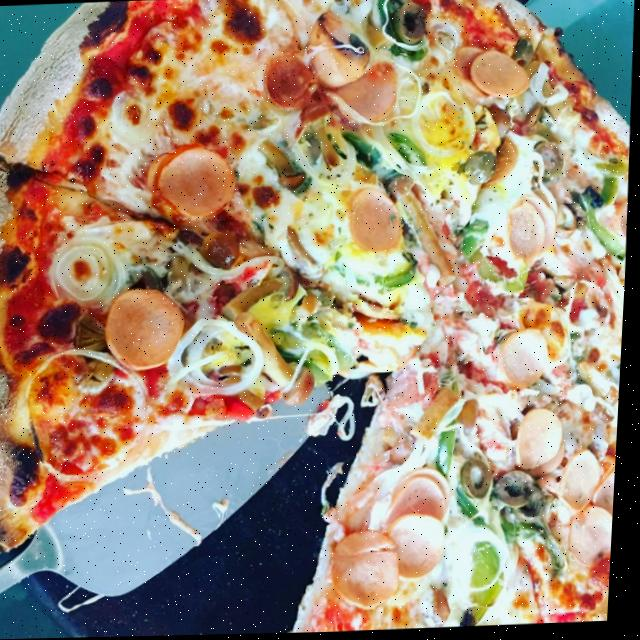green_olives: (492, 472, 539, 510), (463, 457, 498, 502), (391, 1, 426, 46), (464, 148, 500, 189), (532, 143, 566, 185), (513, 40, 535, 70)
mushrooms: (381, 173, 464, 291), (231, 311, 322, 412), (223, 268, 304, 324), (255, 135, 310, 193), (298, 103, 343, 173)
pepperoni: (104, 287, 189, 373), (152, 143, 240, 224), (332, 530, 407, 616), (328, 62, 399, 129), (386, 515, 452, 585), (349, 185, 405, 256), (467, 48, 533, 104), (388, 478, 451, 536), (499, 329, 554, 394), (260, 50, 316, 112), (392, 469, 457, 516), (518, 196, 560, 268), (519, 408, 567, 471), (564, 449, 608, 517), (571, 508, 619, 570), (508, 204, 549, 271), (592, 457, 621, 525), (616, 200, 630, 250)
pizza: (0, 0, 640, 640)
